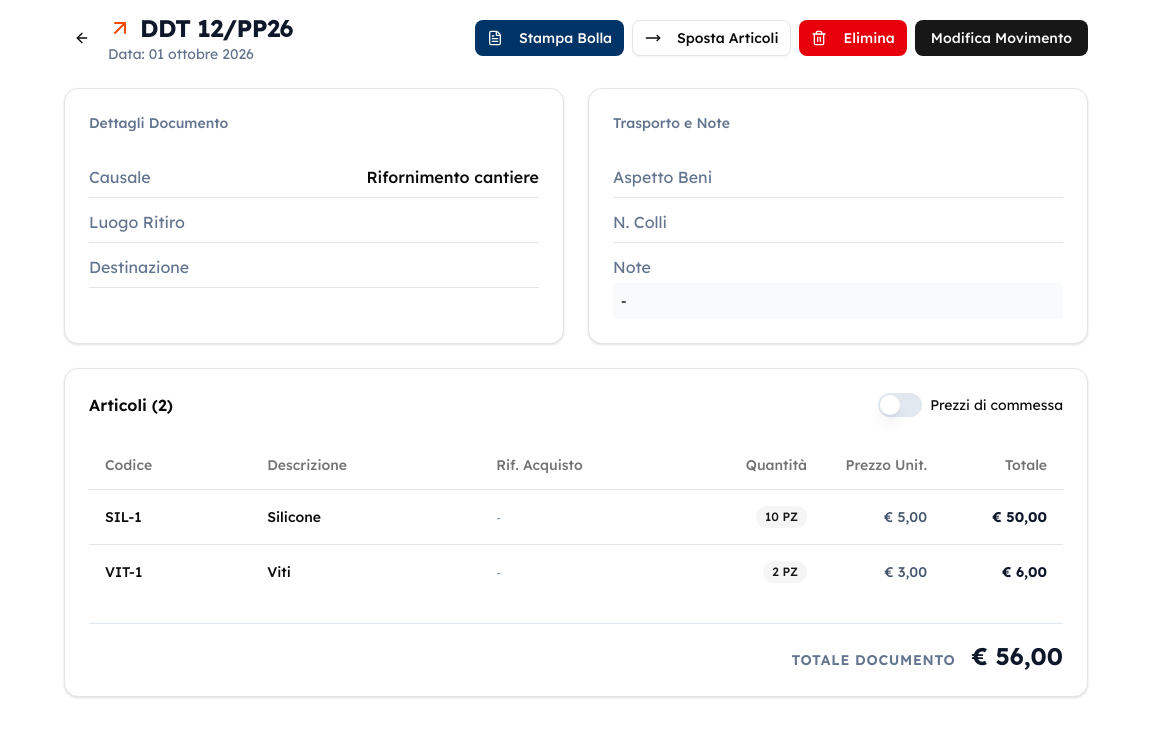
MovementDetailContent: prezzi di acquisto / di commessa › mostra il prezzo che la commessa blocca per tutti gli articoli del documento (più lotti)
This screenshot has width=1152, height=732.
Click the switch. click: click(900, 405)
box: [878, 393, 922, 417]
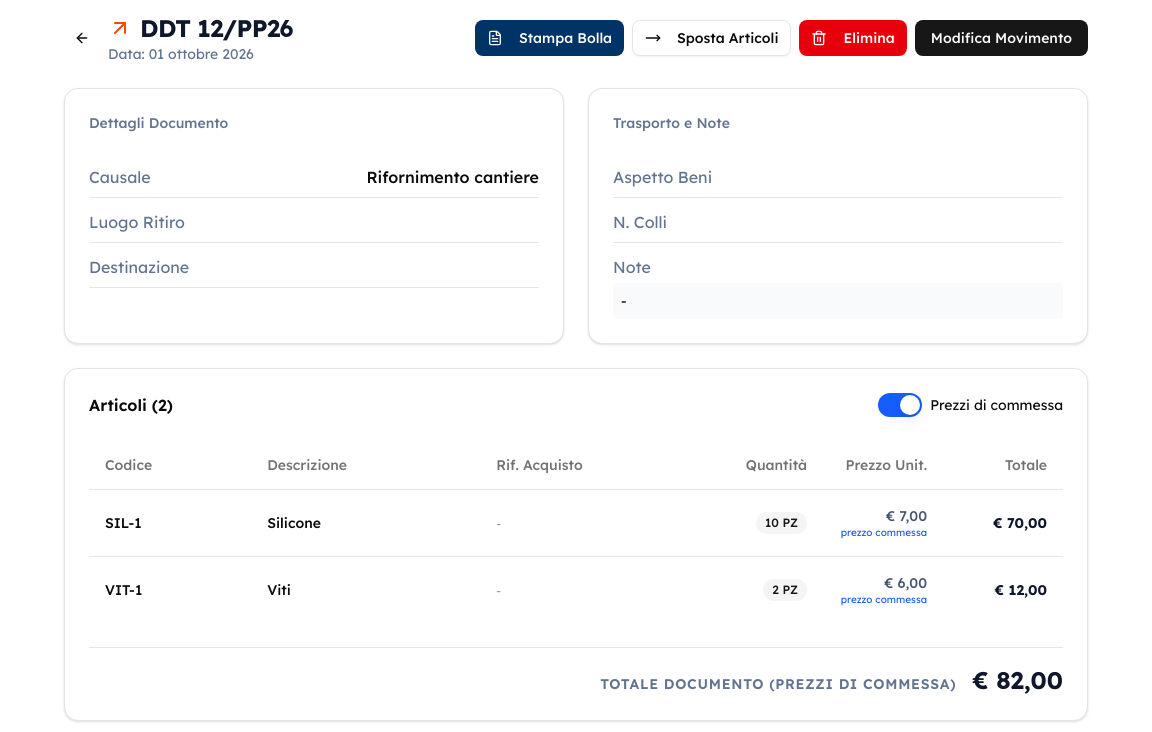
Result: the text "€ 82,00" is shown at [972, 665, 1063, 695]
